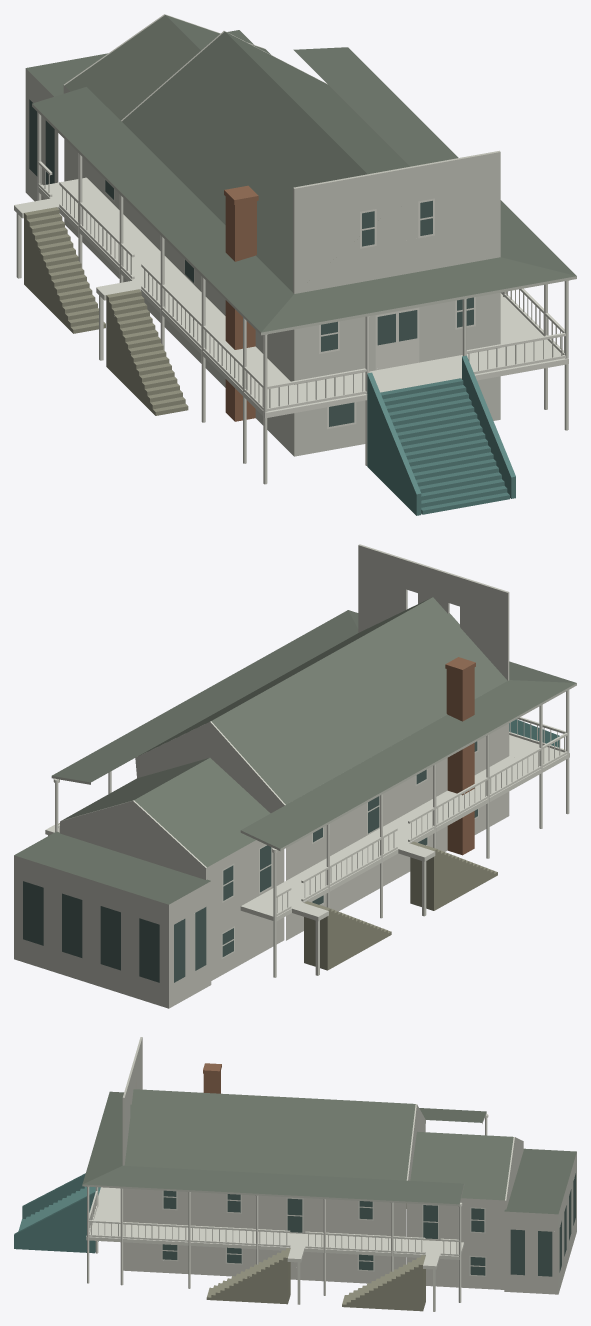
The model's file is gur-sikh-temple-near.glb.
3 renders of one model, top to bottom at view 1: azimuth 30°, elevation 25°; view 2: azimuth 150°, elevation 25°; view 3: azimuth 270°, elevation 25°, orthographic. The views are drawn at different scales.
Visible parts, largest first — view 1: gur-sikh-temple-0-roof, gur-sikh-temple-0-stone, gur-sikh-temple-0-trim, gur-sikh-temple-0-stairs, gur-sikh-temple-0-wood, gur-sikh-temple-0-glass, gur-sikh-temple-0-brick, gur-sikh-temple-0-soffit; view 2: gur-sikh-temple-0-roof, gur-sikh-temple-0-stone, gur-sikh-temple-0-trim, gur-sikh-temple-0-glass, gur-sikh-temple-0-wood, gur-sikh-temple-0-brick, gur-sikh-temple-0-soffit, gur-sikh-temple-0-stairs; view 3: gur-sikh-temple-0-roof, gur-sikh-temple-0-stone, gur-sikh-temple-0-trim, gur-sikh-temple-0-wood, gur-sikh-temple-0-glass, gur-sikh-temple-0-stairs, gur-sikh-temple-0-soffit, gur-sikh-temple-0-brick.
Boxes of the visible parts, bbox=[...] form: gur-sikh-temple-0-roof: bbox=[26, 15, 576, 332]; gur-sikh-temple-0-stone: bbox=[25, 14, 500, 456]; gur-sikh-temple-0-trim: bbox=[14, 112, 569, 484]; gur-sikh-temple-0-stairs: bbox=[367, 355, 515, 515]; gur-sikh-temple-0-wood: bbox=[24, 207, 188, 415]; gur-sikh-temple-0-glass: bbox=[29, 99, 473, 426]; gur-sikh-temple-0-brick: bbox=[224, 185, 258, 421]; gur-sikh-temple-0-soffit: bbox=[32, 104, 576, 335]; gur-sikh-temple-0-roof: bbox=[14, 597, 576, 904]; gur-sikh-temple-0-stone: bbox=[14, 544, 509, 1008]; gur-sikh-temple-0-trim: bbox=[45, 690, 569, 977]; gur-sikh-temple-0-glass: bbox=[23, 741, 477, 982]; gur-sikh-temple-0-wood: bbox=[58, 823, 497, 970]; gur-sikh-temple-0-brick: bbox=[445, 657, 475, 855]; gur-sikh-temple-0-soffit: bbox=[51, 683, 576, 851]; gur-sikh-temple-0-stairs: bbox=[509, 719, 559, 747]; gur-sikh-temple-0-roof: bbox=[82, 1089, 576, 1214]; gur-sikh-temple-0-stone: bbox=[122, 1037, 576, 1294]; gur-sikh-temple-0-trim: bbox=[86, 1114, 488, 1311]; gur-sikh-temple-0-wood: bbox=[206, 1203, 425, 1311]; gur-sikh-temple-0-glass: bbox=[162, 1173, 575, 1276]; gur-sikh-temple-0-stairs: bbox=[14, 1173, 100, 1253]; gur-sikh-temple-0-soffit: bbox=[82, 1112, 486, 1205]; gur-sikh-temple-0-brick: bbox=[203, 1063, 221, 1093].
Size of the model in its own units: 16.98 by 11.2 by 33.05.
